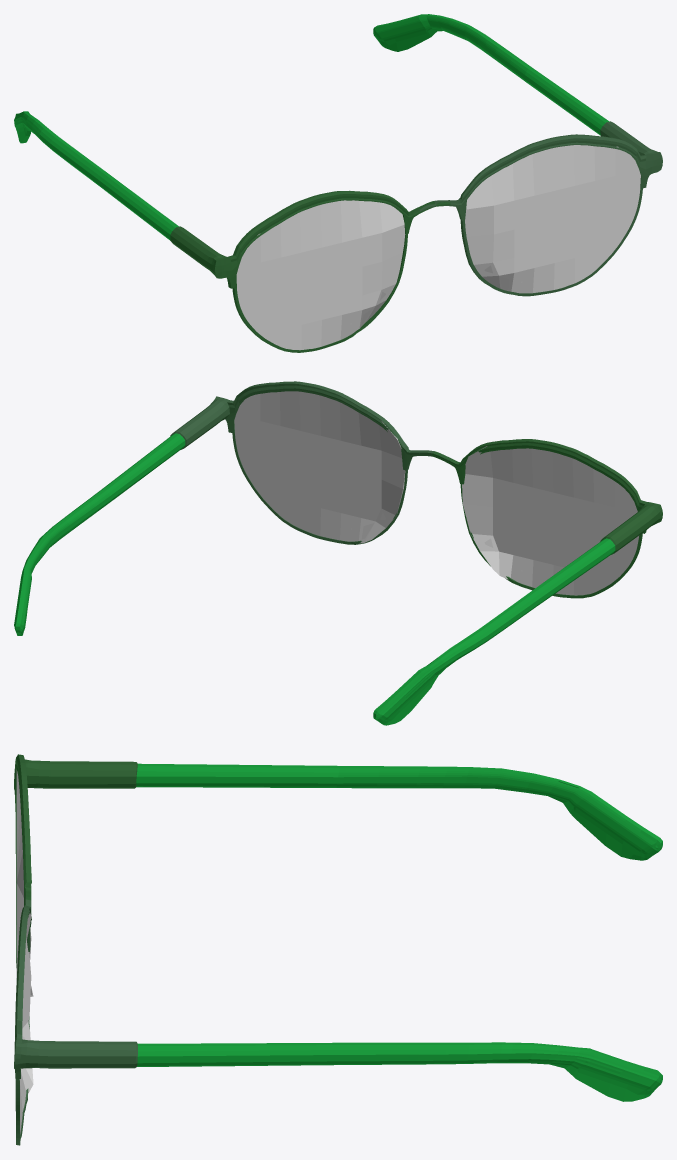
The model's file is 1-Green.glb.
3 renders of one model, top to bottom at view 1: azimuth 30°, elevation 25°; view 2: azimuth 150°, elevation 25°; view 3: azimuth 270°, elevation 25°, orthographic. The views are drawn at different scales.
Parts seen in each view (by area): view 1: Lens, FrameFront, FrameEnd; view 2: Lens, FrameEnd, FrameFront; view 3: FrameEnd, FrameFront, Lens.
Part boxes in pixels (x1,y1,x2,y2): Lens: (236,145,640,350); FrameFront: (170,121,662,352); FrameEnd: (14,14,609,240); Lens: (234,391,638,595); FrameEnd: (14,433,615,725); FrameFront: (170,381,662,598); FrameEnd: (136,763,662,1101); FrameFront: (14,754,137,1145); Lens: (16,770,33,1133).
Size of the model in its own units: 2.2 by 0.7174 by 2.07.
